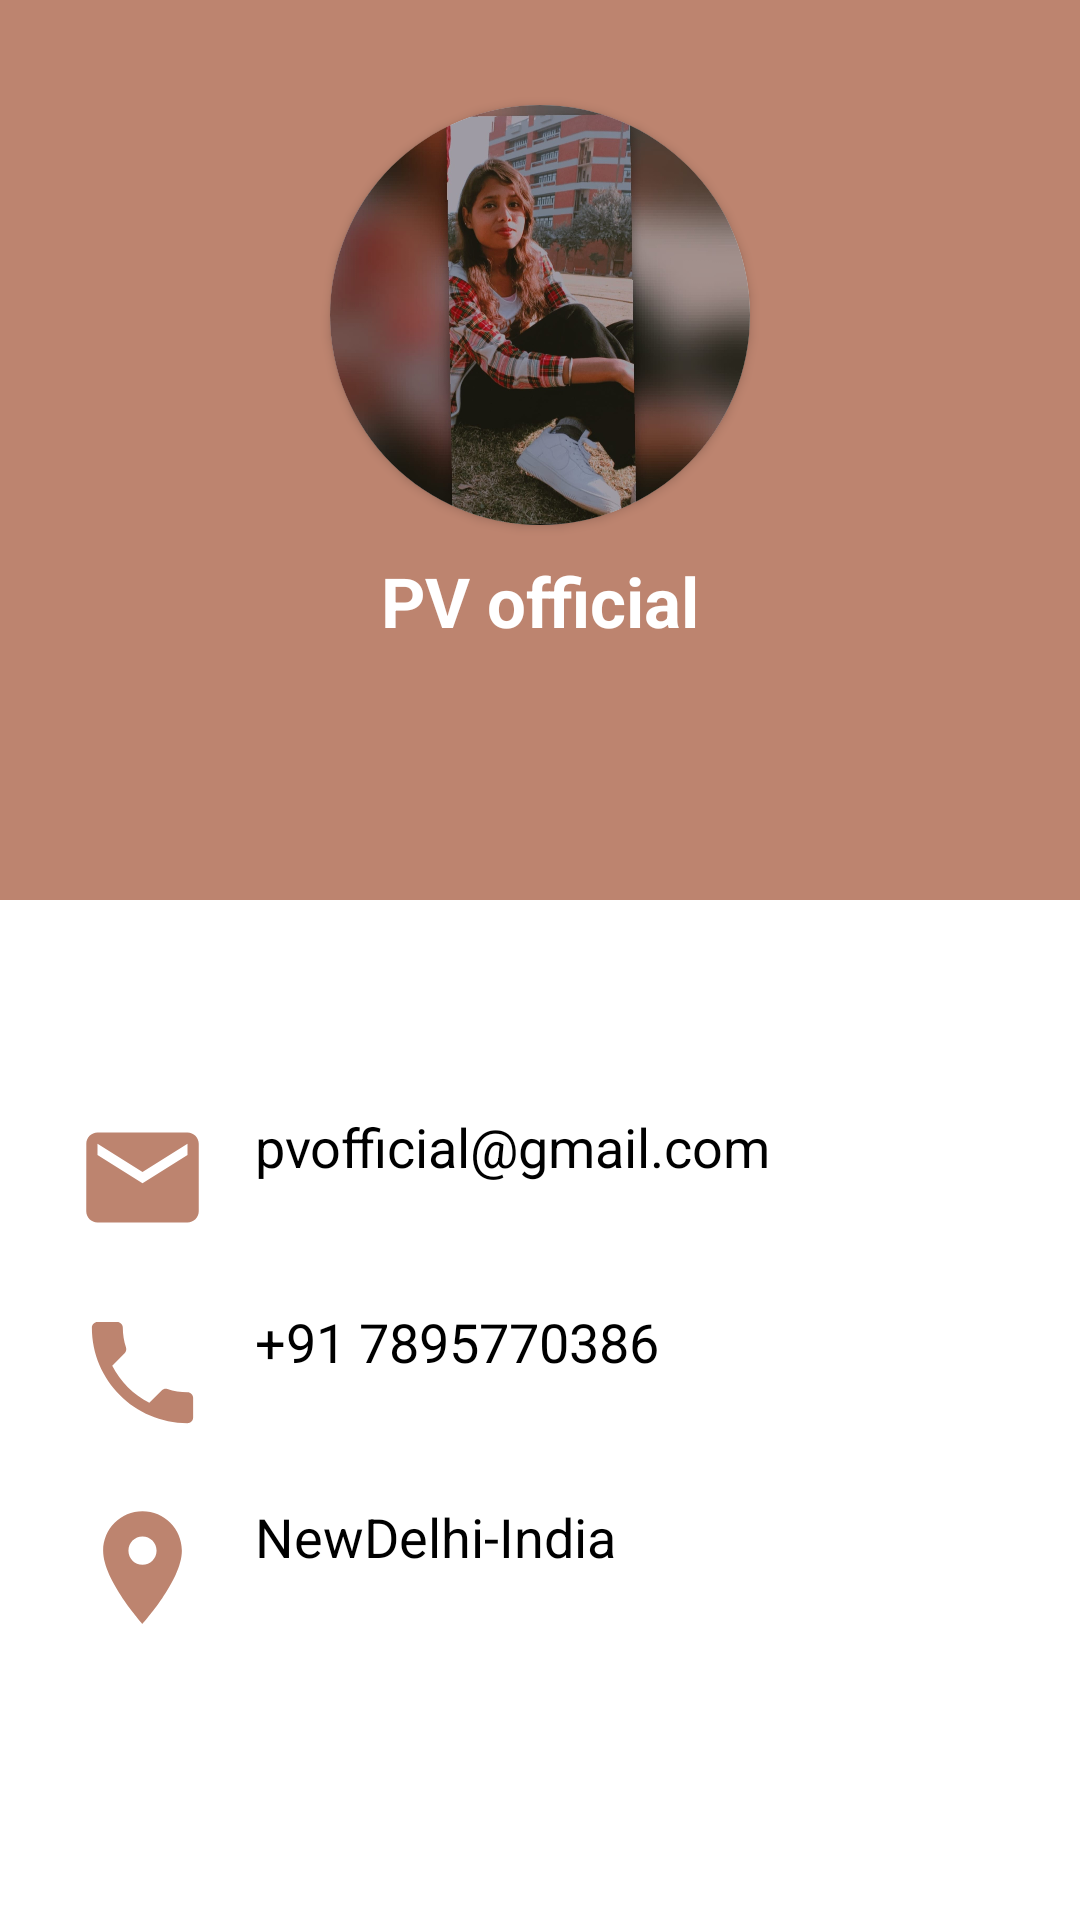

Screen size 1080px×1920px. Icon name, then its box in pixels as [x1,y1,x2,y2]:
location: [103,1511,182,1624]
phone: [92,1322,193,1424]
